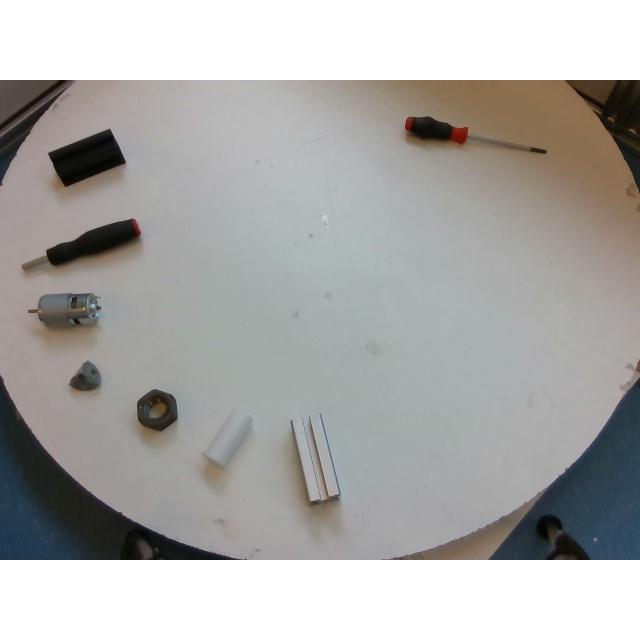M30: (137, 390, 177, 430)
Motor2: (28, 293, 104, 329)
S40_40_B: (49, 130, 125, 186)
S40_40_G: (292, 413, 341, 502)
Spacer: (202, 408, 252, 468)
